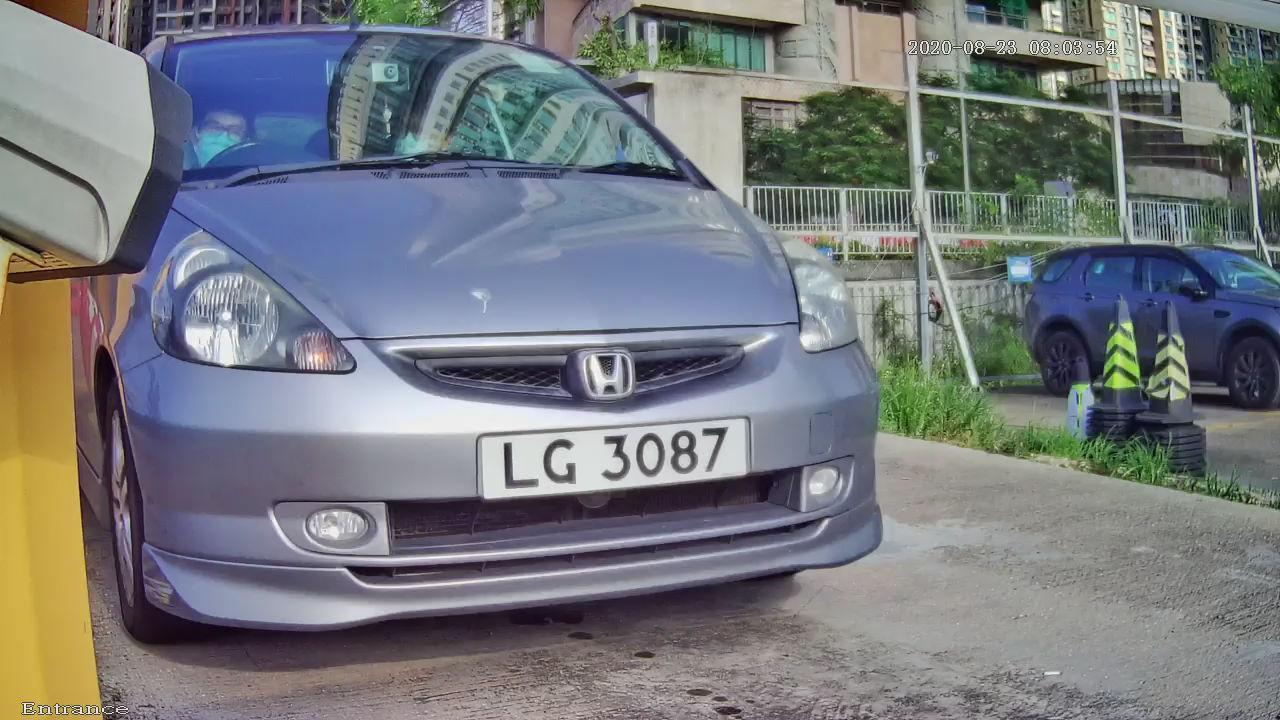Car: (29, 4, 966, 679)
License Plate: (416, 361, 807, 537)
